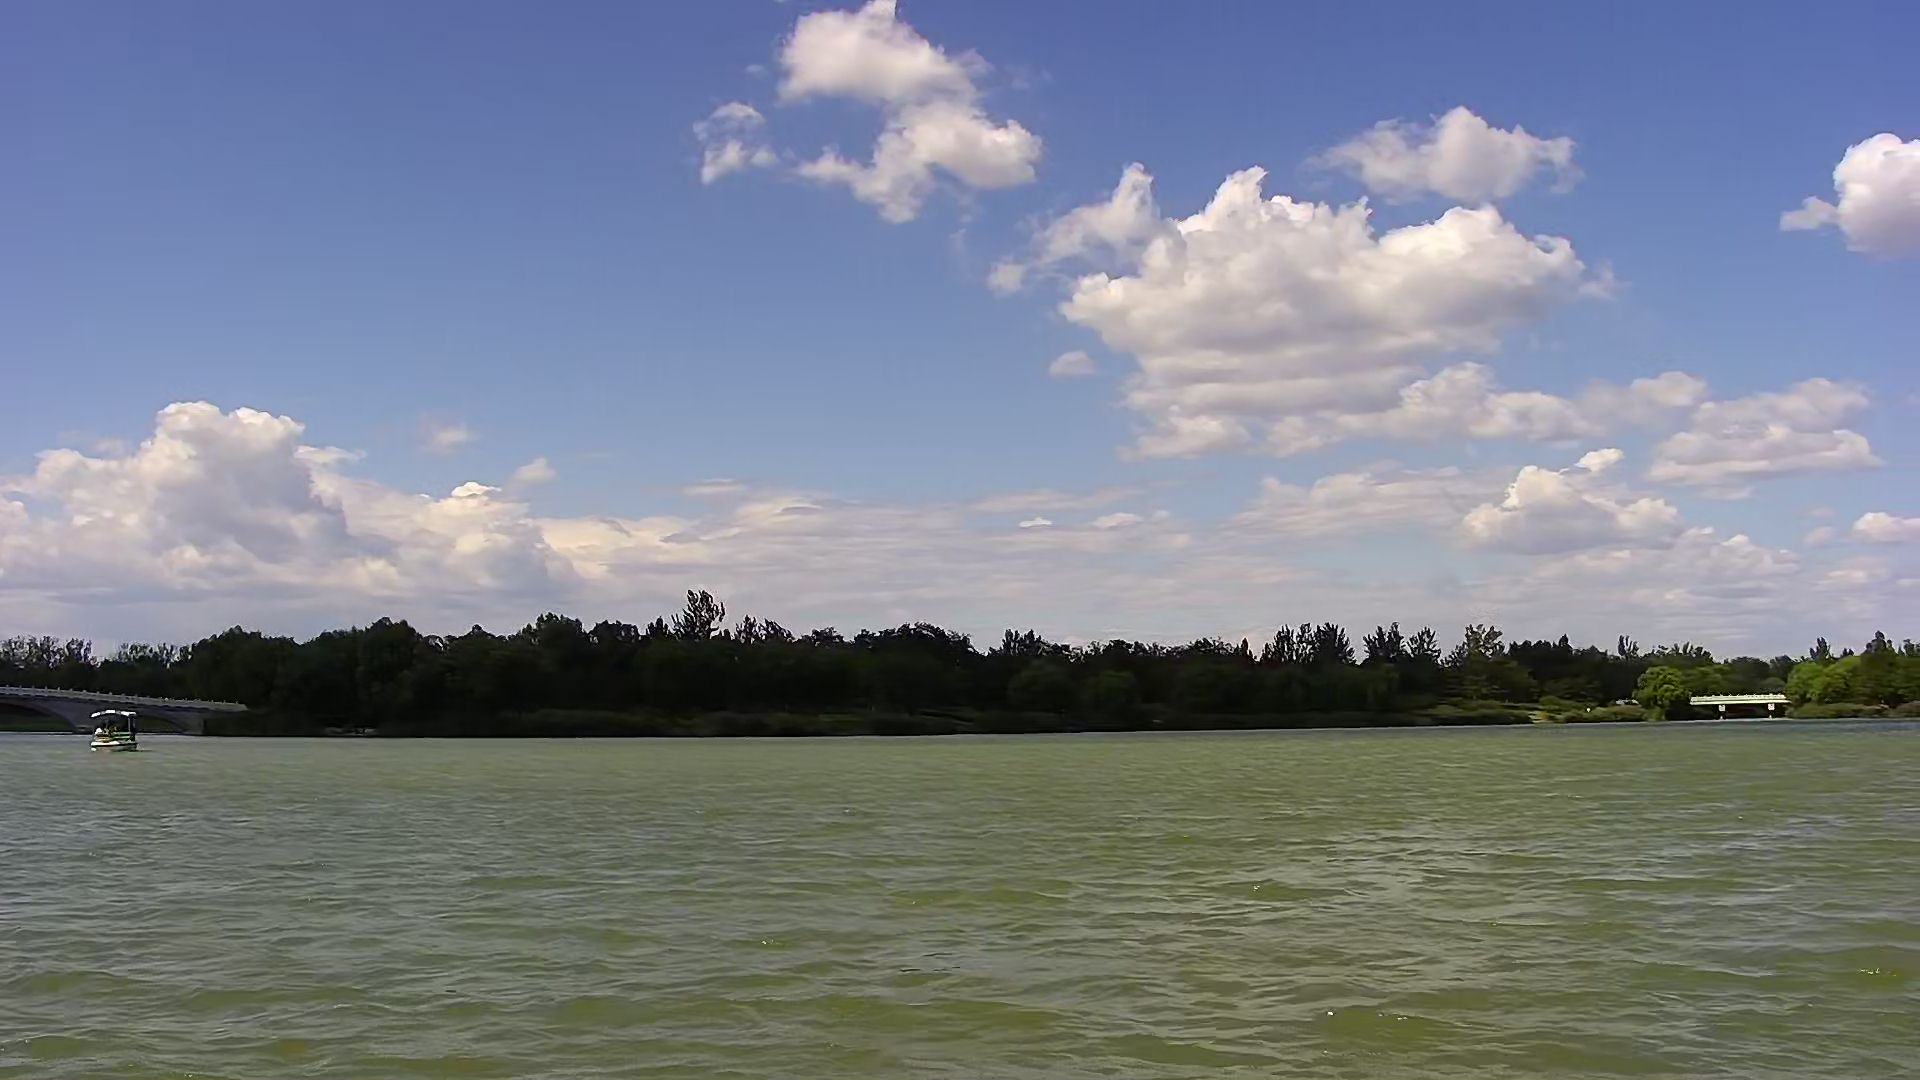boat: (76, 705, 146, 754)
bridge: (1, 682, 249, 735), (1687, 687, 1793, 729)
